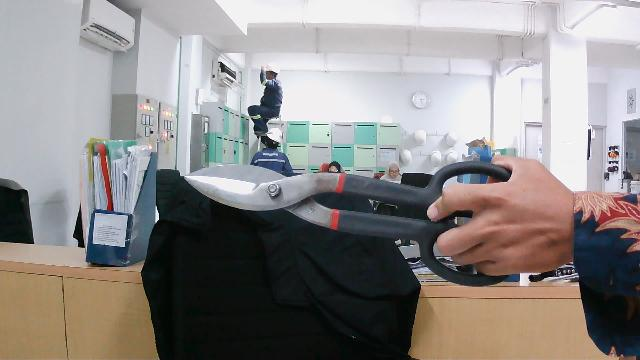gunting_plat: (171, 143, 545, 295)
